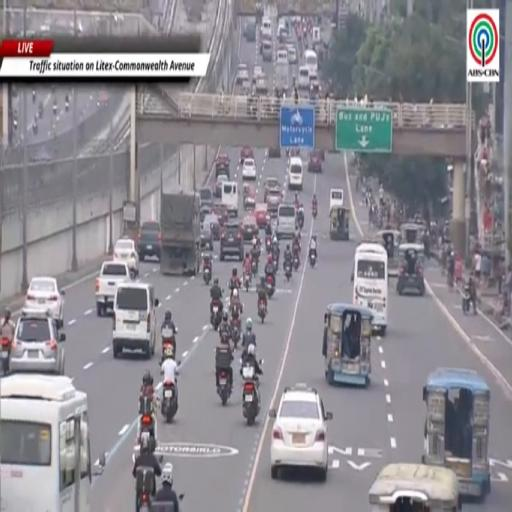bus: (0, 375, 92, 511), (354, 243, 388, 335), (304, 50, 317, 74)
car: (270, 384, 332, 481), (10, 308, 65, 374), (113, 282, 159, 358), (24, 277, 65, 326), (397, 244, 425, 295), (113, 238, 139, 277), (220, 221, 244, 261), (138, 221, 161, 261), (241, 215, 259, 242), (203, 214, 220, 241), (266, 188, 282, 216), (264, 178, 281, 201), (254, 203, 269, 229), (213, 203, 229, 227), (200, 222, 214, 249), (216, 153, 230, 178), (215, 174, 229, 198), (242, 158, 257, 180), (244, 184, 256, 210), (236, 63, 249, 85), (308, 150, 321, 172), (200, 187, 213, 207), (255, 75, 268, 95), (240, 146, 254, 164), (245, 22, 256, 42), (200, 206, 212, 223), (253, 67, 264, 83)
jeepney: (423, 368, 491, 500), (369, 463, 461, 511), (323, 303, 372, 387), (376, 230, 401, 277), (122, 201, 139, 243), (330, 206, 350, 241), (400, 222, 425, 244)
motorcycle: (242, 364, 260, 425), (136, 467, 154, 511), (161, 381, 178, 423), (161, 328, 177, 360), (218, 370, 231, 405), (462, 285, 476, 314), (0, 338, 10, 375), (231, 312, 240, 350), (211, 299, 221, 330), (258, 298, 266, 323), (266, 276, 275, 297), (243, 272, 251, 292), (203, 266, 211, 284), (297, 211, 304, 230), (447, 272, 454, 291), (309, 250, 316, 267), (285, 262, 291, 281), (265, 236, 271, 253), (293, 254, 299, 271), (273, 253, 278, 273), (252, 260, 257, 277), (312, 204, 317, 218), (33, 122, 38, 134), (32, 90, 36, 103), (53, 103, 57, 115), (65, 102, 68, 111)
truck: (161, 192, 200, 275), (96, 261, 131, 316), (275, 62, 290, 95)
